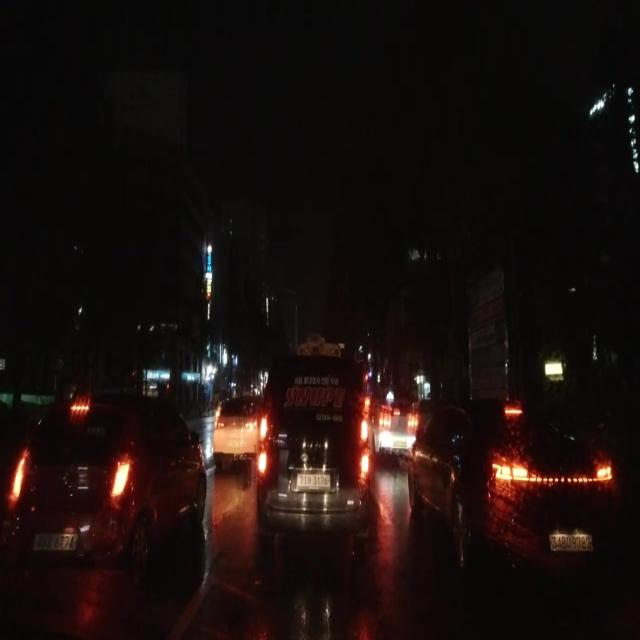Car: (9, 391, 204, 581), (409, 407, 614, 562), (212, 389, 257, 460), (368, 388, 413, 447)
